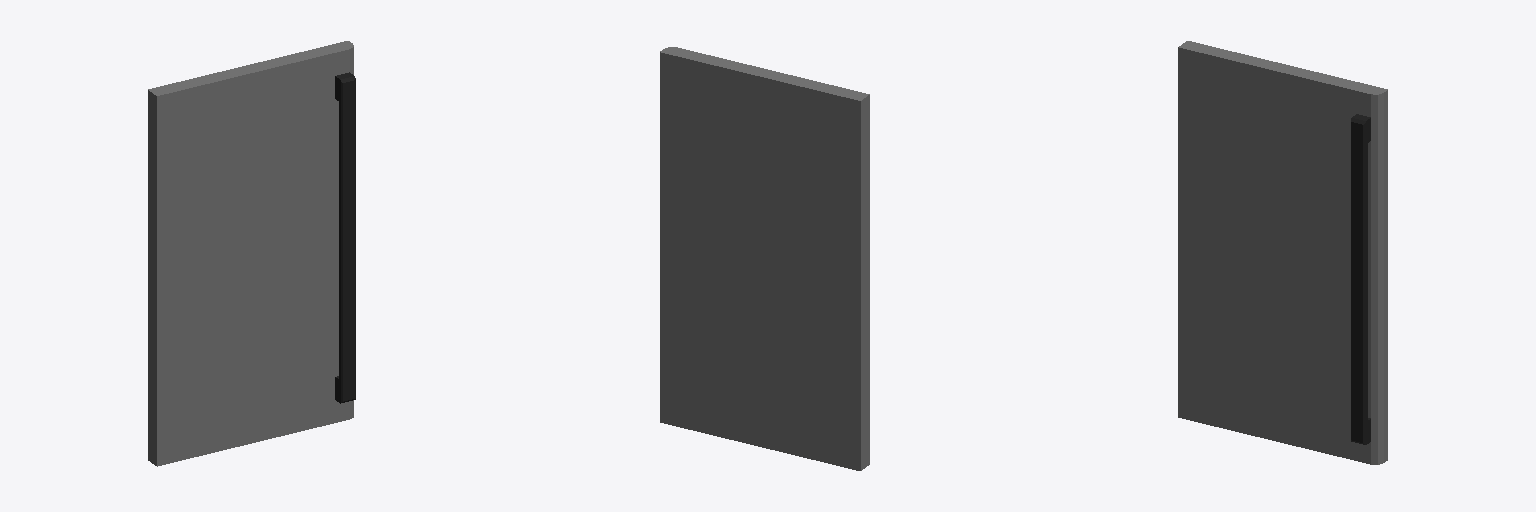
File: fridge_door.obj
The picture shows the model from 3 angles: view 1: azimuth 30°, elevation 25°; view 2: azimuth 150°, elevation 25°; view 3: azimuth 330°, elevation 25°; orthographic projection.
Bounding box in the file's own units: 1.25 × 2.2 × 0.1708.